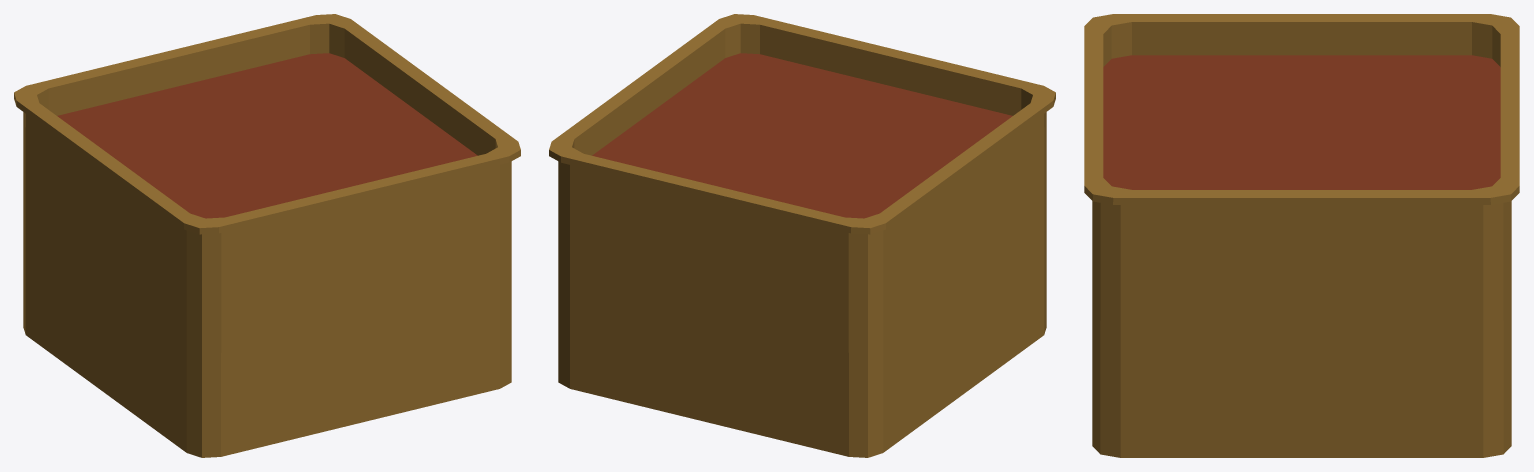
The model's file is SyrupBucketFull_TFSGJ_Spring2025.fbx.
3 views of the same model, side by side, from view 1: azimuth 30°, elevation 25°; view 2: azimuth 150°, elevation 25°; view 3: azimuth 270°, elevation 25° (orthographic). The views are drawn at different scales.
Visible parts, largest first — view 1: Syrup bucket; view 2: Syrup bucket; view 3: Syrup bucket.
Boxes of the visible parts, <box> form: Syrup bucket: <box>14,14,520,457</box>; Syrup bucket: <box>549,14,1055,457</box>; Syrup bucket: <box>1084,14,1519,457</box>.
Size of the model in its own units: 25.92 by 17.31 by 25.92.
